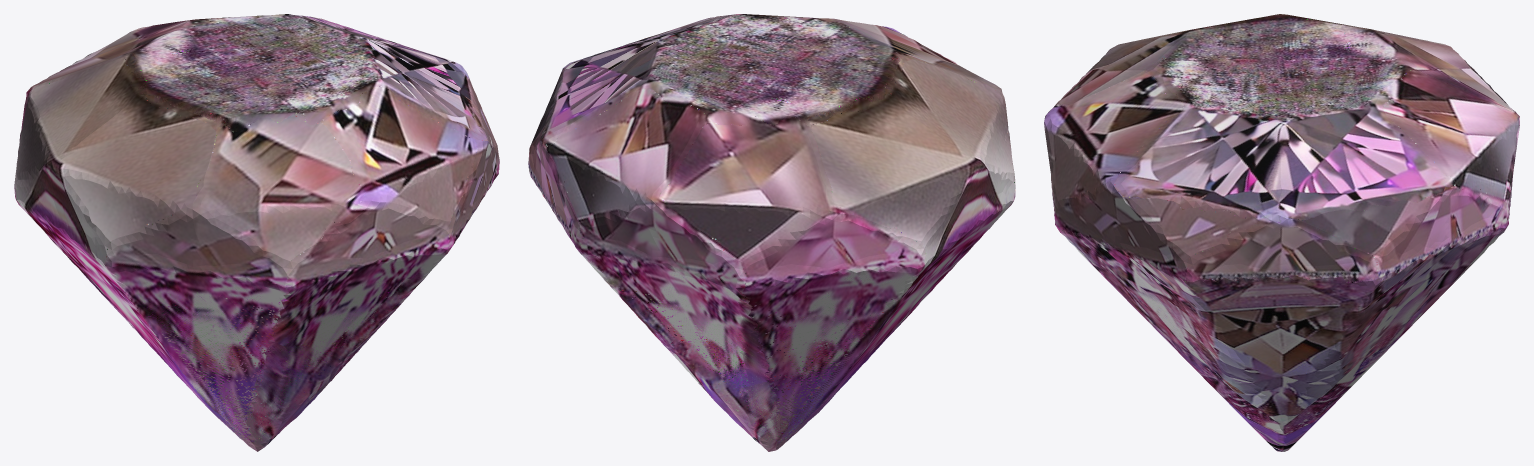
The model's file is pink_diamond.has_a_faceted_shape,_with_eight_sides_and_four_sharp_corners._The_diamond_is_translucent_and_has_a_shiny_surface_1.glb.
3 renders of one model, left to right at view 1: azimuth 30°, elevation 25°; view 2: azimuth 150°, elevation 25°; view 3: azimuth 270°, elevation 25°, orthographic.
Visible parts, largest first — view 1: mesh; view 2: mesh; view 3: mesh.
Part boxes in pixels (x1,y1,x2,y2): mesh: [14, 14, 499, 451]; mesh: [528, 14, 1015, 451]; mesh: [1044, 14, 1519, 451].
Size of the model in its own units: 1 by 0.8933 by 1.
Materials: 1 (1 with a texture image).
